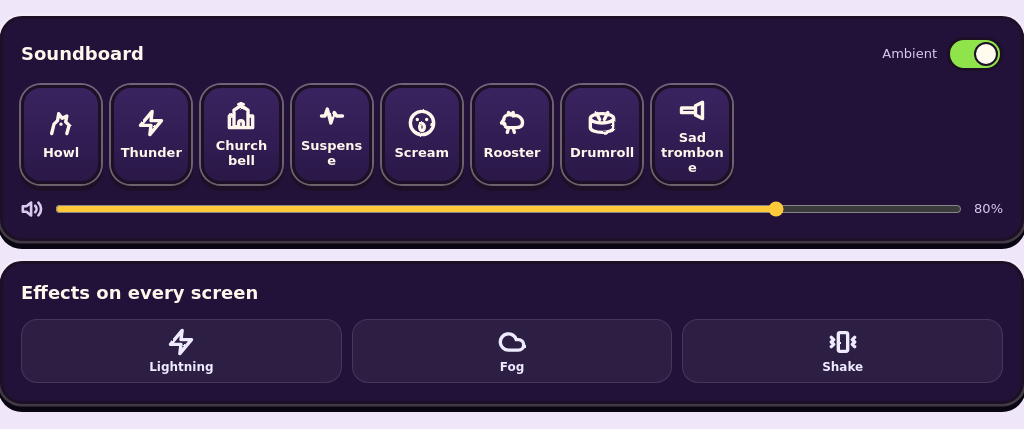
Test case: NarratorSoundboard › sets the master volume
Set the slider named "Soundboard volume" to "70" at (687, 209), box [55,201,962,217]
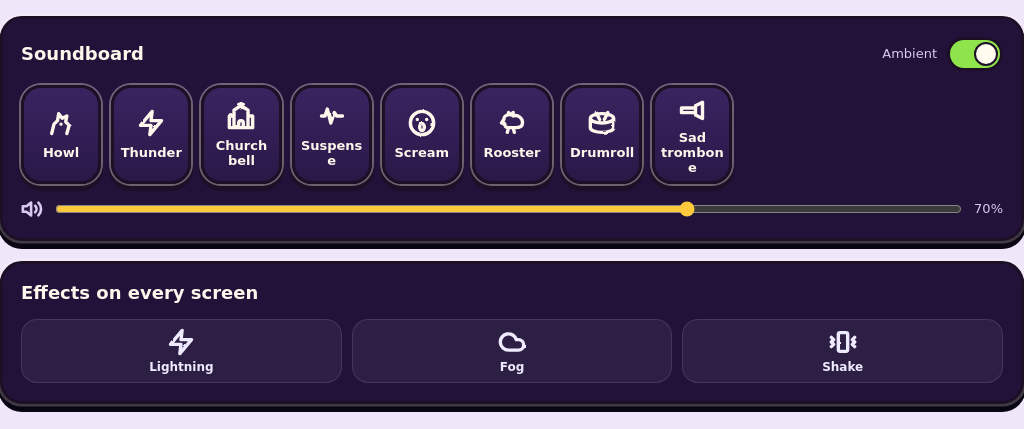
expect the text "70%" is shown: met, box [974,200,1003,218]
